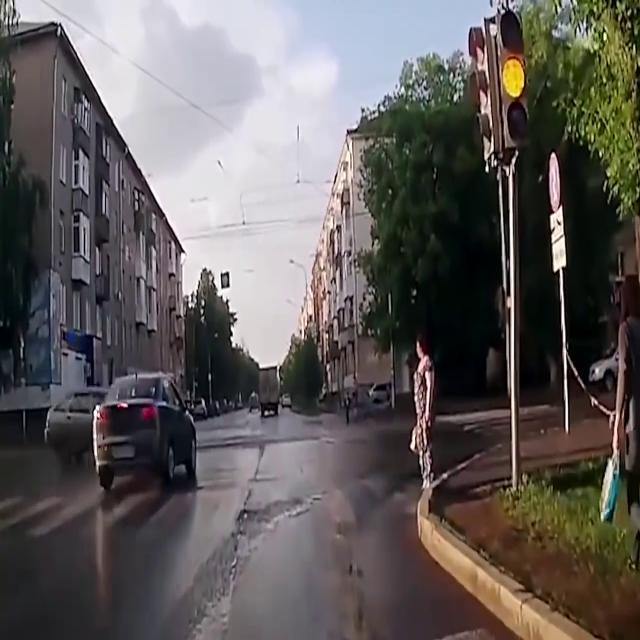multiple_accident: (36, 350, 244, 501)
